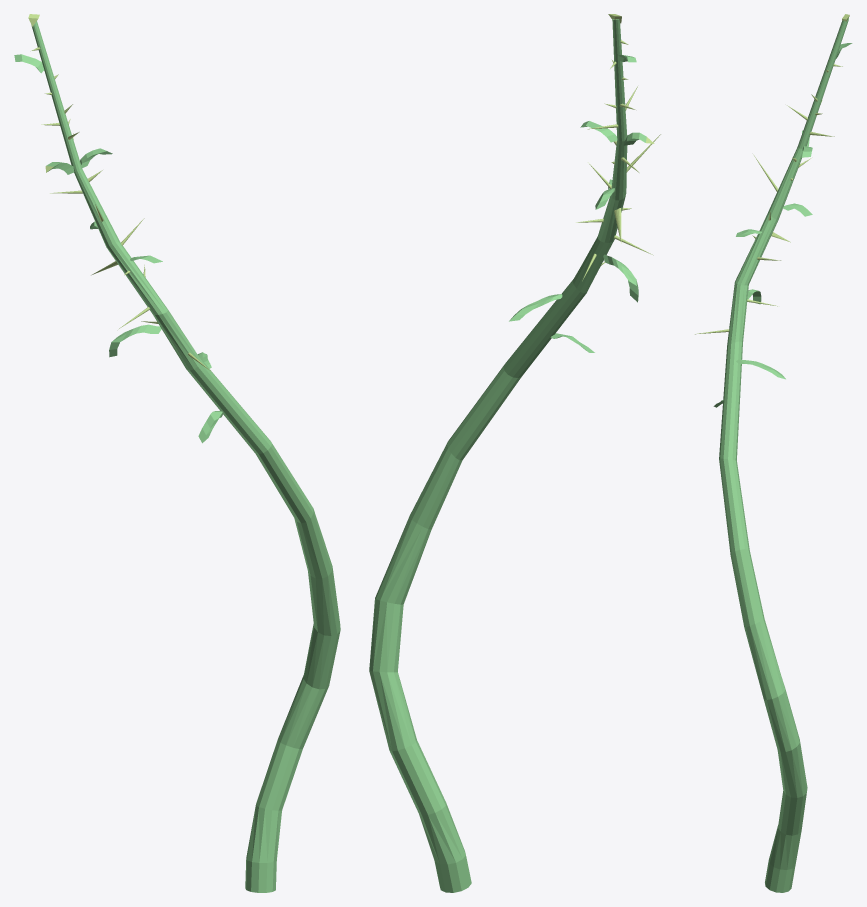
The model's file is thorny-vine-tawpshelf_azL1Ln1mCLg.glb.
3 renders of one model, left to right at view 1: azimuth 30°, elevation 25°; view 2: azimuth 150°, elevation 25°; view 3: azimuth 270°, elevation 25°, orthographic. The views are drawn at different scales.
Visible parts, largest first — view 1: group2084698987; view 2: group2084698987; view 3: group2084698987.
Boxes of the visible parts, x1,y1,x2,y2 form: group2084698987: (31,21,340,892); group2084698987: (369,19,627,892); group2084698987: (719,18,848,892).
Bounding box in the file's own units: 1.91 × 5.74 × 1.05.
